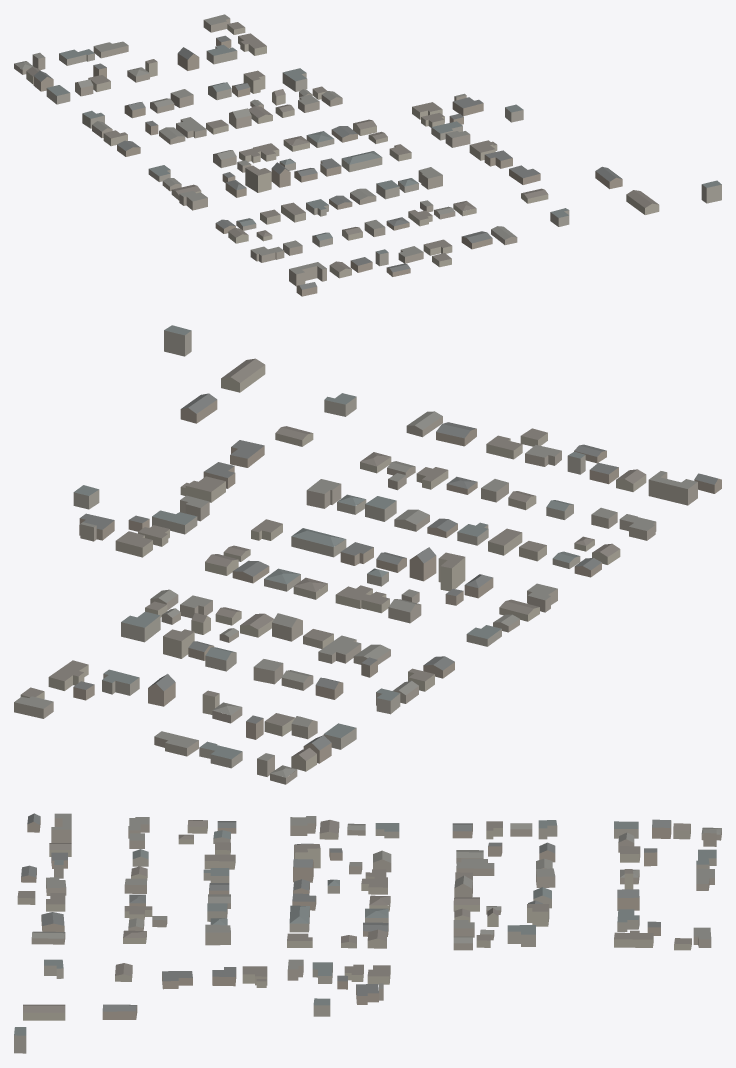
Rendered from e2f09d317637-chunk-1201_11843.glb.
The picture shows the model from 3 angles, top to bottom: view 1: azimuth 30°, elevation 25°; view 2: azimuth 150°, elevation 25°; view 3: azimuth 270°, elevation 25°; orthographic projection. The views are drawn at different scales.
Parts seen in each view (by area): view 1: building_13411, building_151735, building_72546, building_163664, building_161158, building_45951, building_16023, building_154112, building_104008; view 2: building_13411, building_72546, building_163664, building_161158, building_45951, building_151735, building_16023, building_45322, building_104008, building_154112, building_81380, building_101419 (+10 smaller); view 3: building_161158, building_104008, building_163664, building_45951, building_13411, building_16023, building_72546, building_107177, building_45322, building_78266, building_172125, building_151735 (+13 smaller).
Part boxes in pixels (box(x1,y1,x2,y2)): building_13411: box(289, 262, 326, 286); building_151735: box(245, 165, 271, 192); building_72546: box(341, 151, 382, 172); building_163664: box(239, 143, 279, 163); building_161158: box(626, 190, 659, 214); building_45951: box(282, 68, 307, 91); building_16023: box(176, 117, 206, 138); building_154112: box(206, 44, 237, 64); building_104008: box(238, 33, 266, 55); building_13411: box(648, 471, 697, 505); building_72546: box(291, 528, 346, 557); building_163664: box(335, 585, 389, 613); building_161158: box(221, 358, 265, 392); building_45951: box(121, 611, 160, 642); building_151735: box(438, 552, 465, 591); building_16023: box(318, 635, 361, 663); building_45322: box(306, 479, 341, 508); building_104008: box(48, 660, 88, 690); building_154112: box(102, 669, 139, 695); building_81380: box(199, 741, 242, 768); building_101419: box(152, 510, 197, 534); building_161158: box(23, 1004, 65, 1020); building_104008: box(614, 930, 653, 947); building_163664: box(361, 869, 387, 894); building_45951: box(507, 925, 535, 946); building_13411: box(51, 813, 71, 842); building_16023: box(456, 859, 494, 875); building_72546: box(289, 905, 309, 932); building_107177: box(102, 1004, 137, 1019); building_45322: box(205, 924, 230, 945); building_78266: box(162, 971, 192, 989); building_172125: box(290, 816, 316, 835); building_151735: box(294, 844, 320, 868).
Bounding box in the file's own units: 276 × 11.43 × 360.
